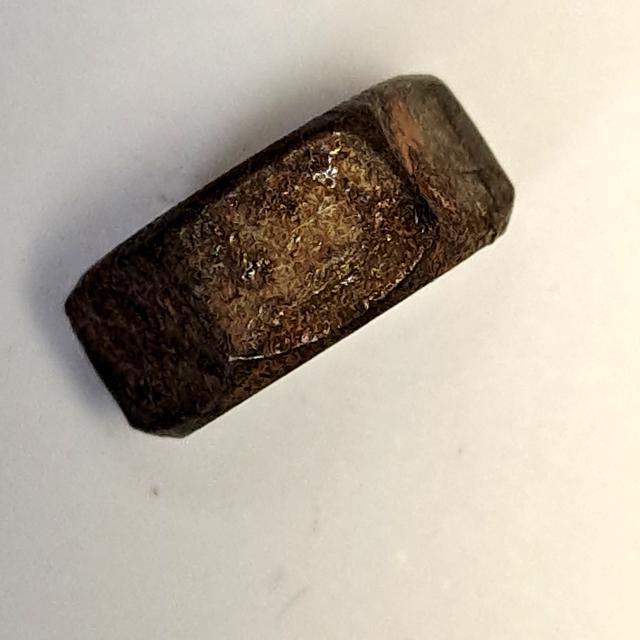Side_Rust: (47, 66, 528, 449)
